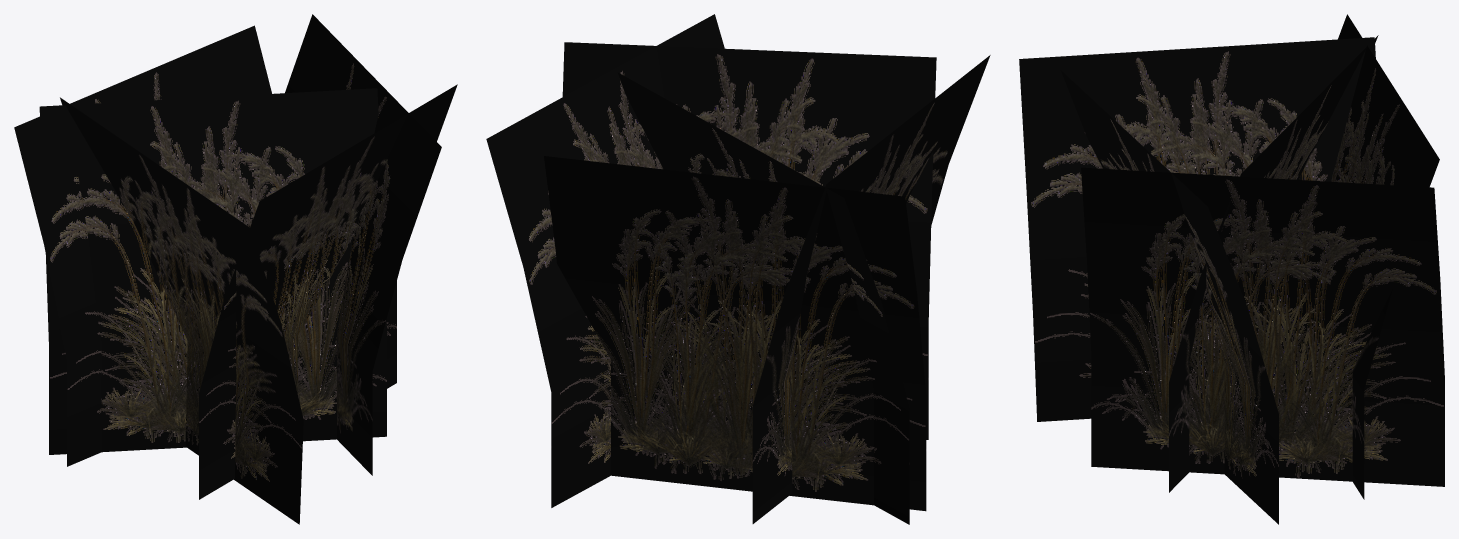
Rendered from grass_3.obj.
3 renders of one model, left to right at view 1: azimuth 30°, elevation 25°; view 2: azimuth 150°, elevation 25°; view 3: azimuth 270°, elevation 25°, orthographic. The views are drawn at different scales.
Parts seen in each view (by area): view 1: grass_3; view 2: grass_3; view 3: grass_3.
Part boxes in pixels (x1,y1,x2,y2): grass_3: (14, 14, 457, 524); grass_3: (486, 14, 990, 524); grass_3: (1019, 14, 1444, 524).
Size of the model in its own units: 1.24 by 1.04 by 1.16.
